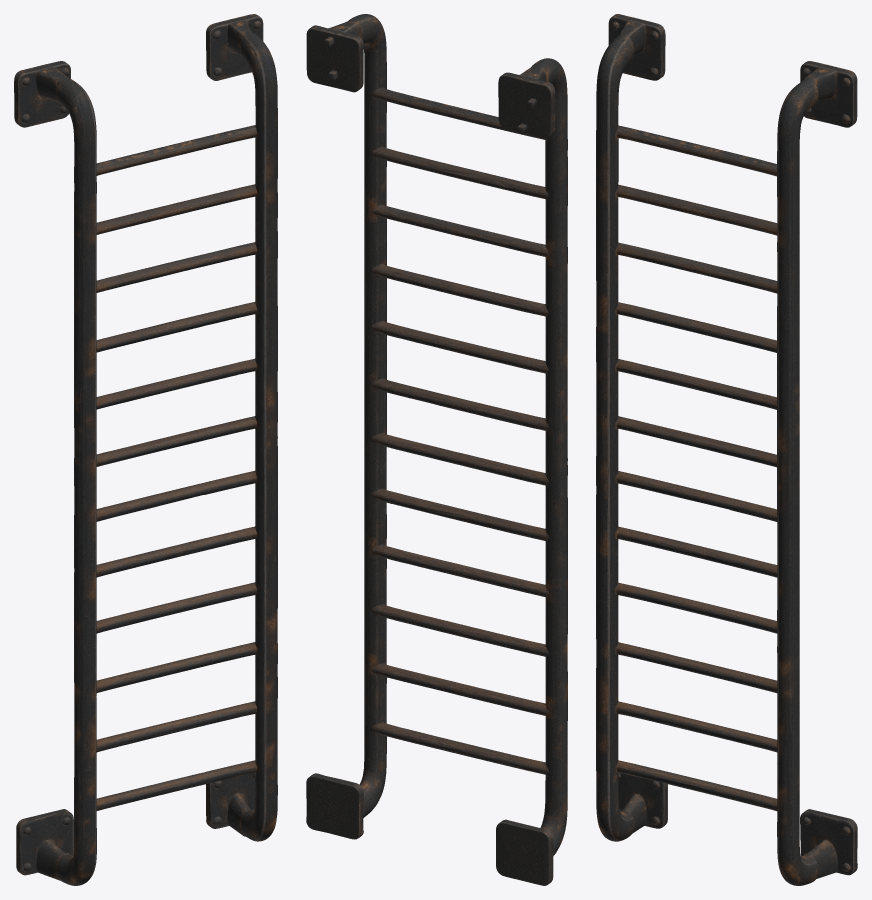
Rendered from steel_ladder_segment.glb.
The picture shows the model from 3 angles, left to right: view 1: azimuth 30°, elevation 25°; view 2: azimuth 150°, elevation 25°; view 3: azimuth 330°, elevation 25°; orthographic projection.
Size of the model in its own units: 0.6096 by 1.9 by 0.2069.
1 material, 1 textured.
